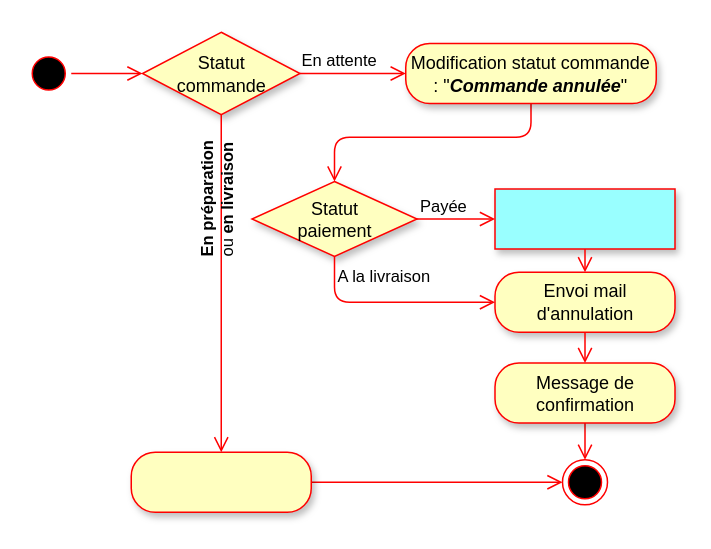
The diagram is 711 pixels wide and 549 high, and some of its shapes have lost their labels. The centre of each missing label's shape, as x and y in pixels:
"Annulation paiement" goes at (586,221).
"Message d'erreur" goes at (222,484).
